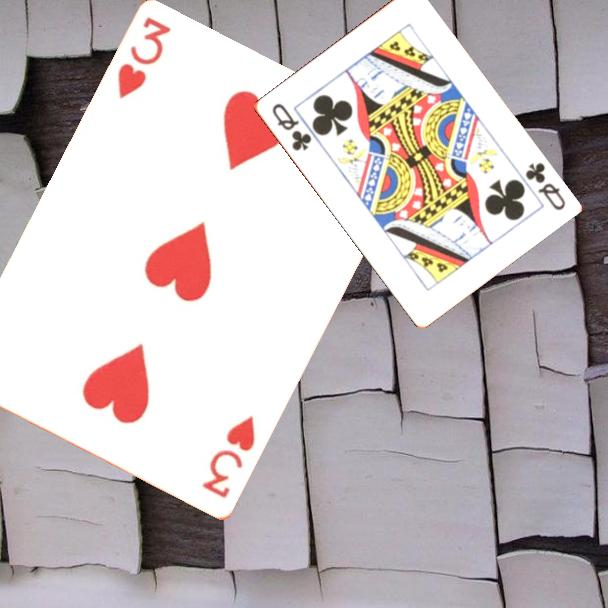c12: (521, 159, 568, 213), (268, 100, 314, 154)
h03: (198, 412, 259, 502), (114, 14, 175, 103)
